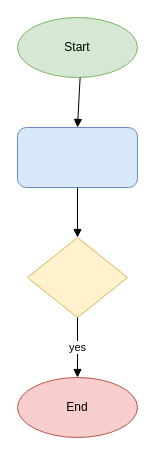
This 155x455 diagram has some shape labels left out. The centre of each missing label's shape, as x and y in pixels:
"OK?" goes at point (77, 277).
"Process" goes at point (77, 157).
